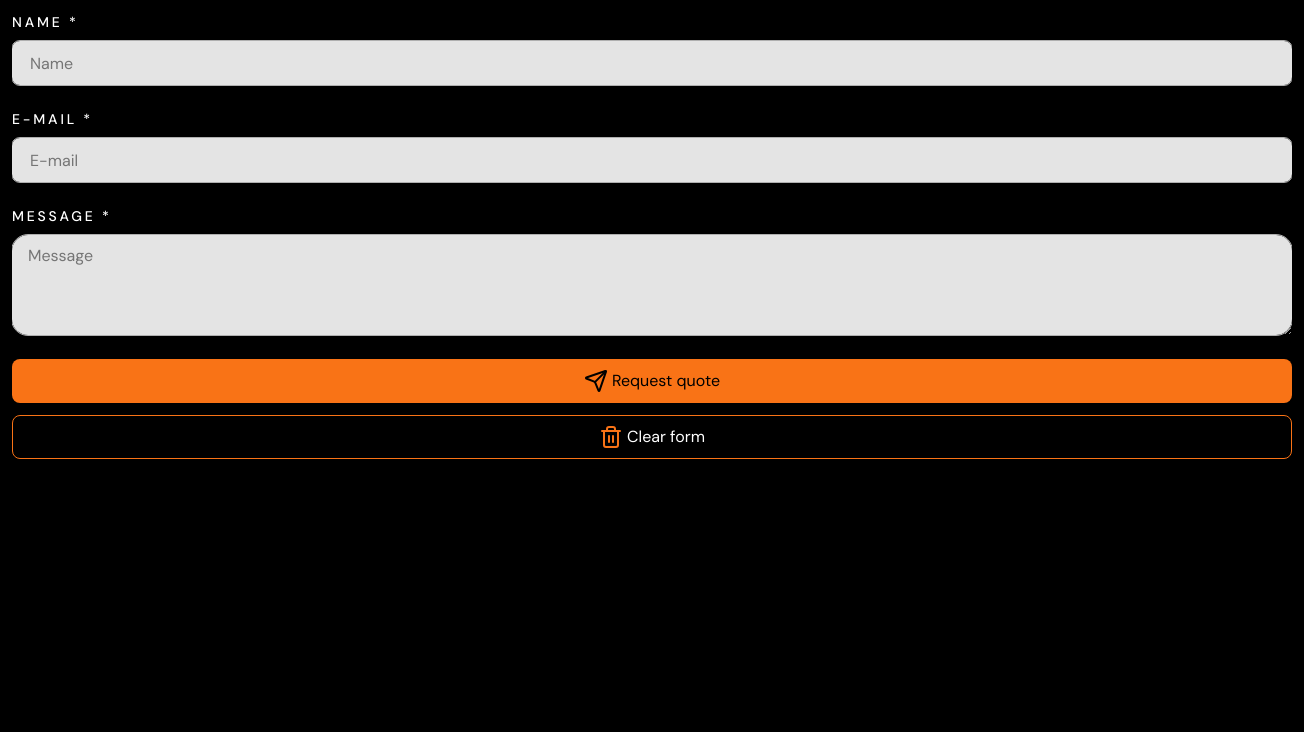
Test: Form › shows an invalid email error for a badly formatted email
Type "Kalle Anka" into the field labelled "Name *" at (124, 63), box [28, 41, 220, 85]
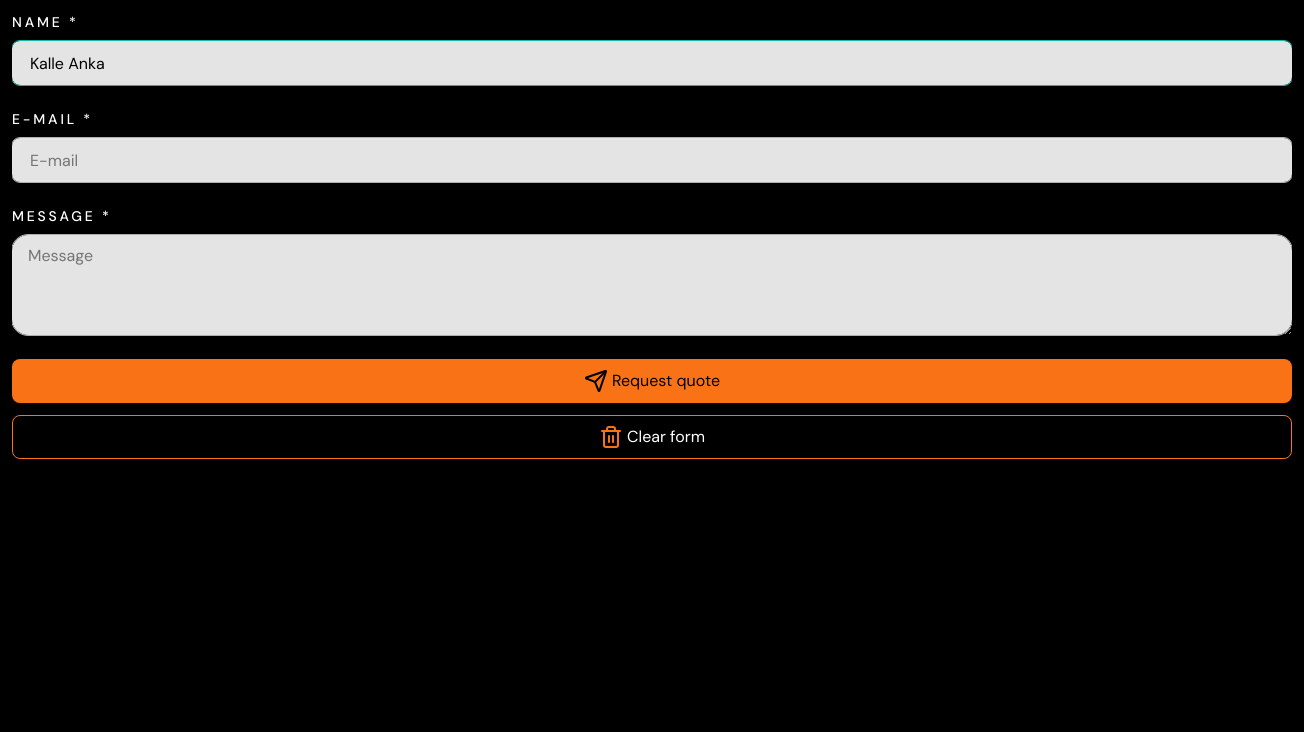
Type "kalle-snurre-se" into the field labelled "E-mail *" at (124, 160), box [28, 138, 220, 182]
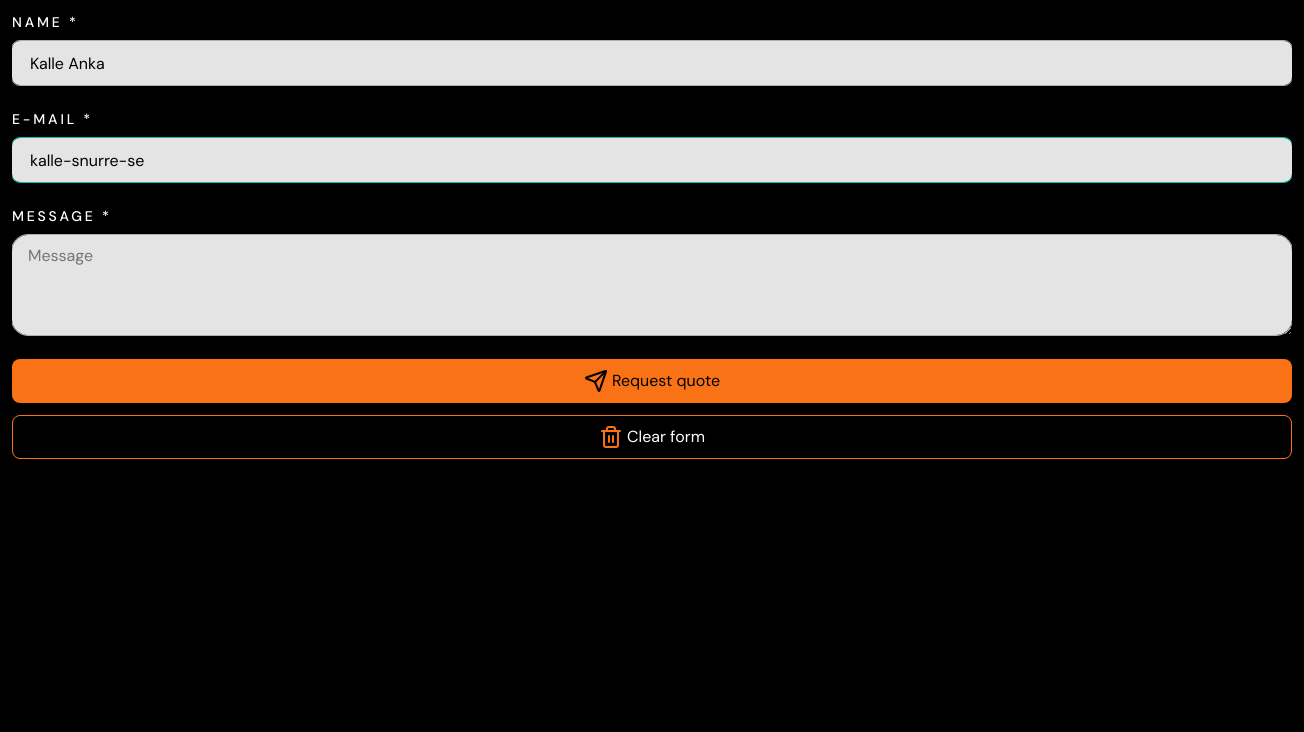
Type "Hej, jag vill ha en offert." into the text box labelled "Message *" at (652, 285), box [12, 235, 1292, 335]
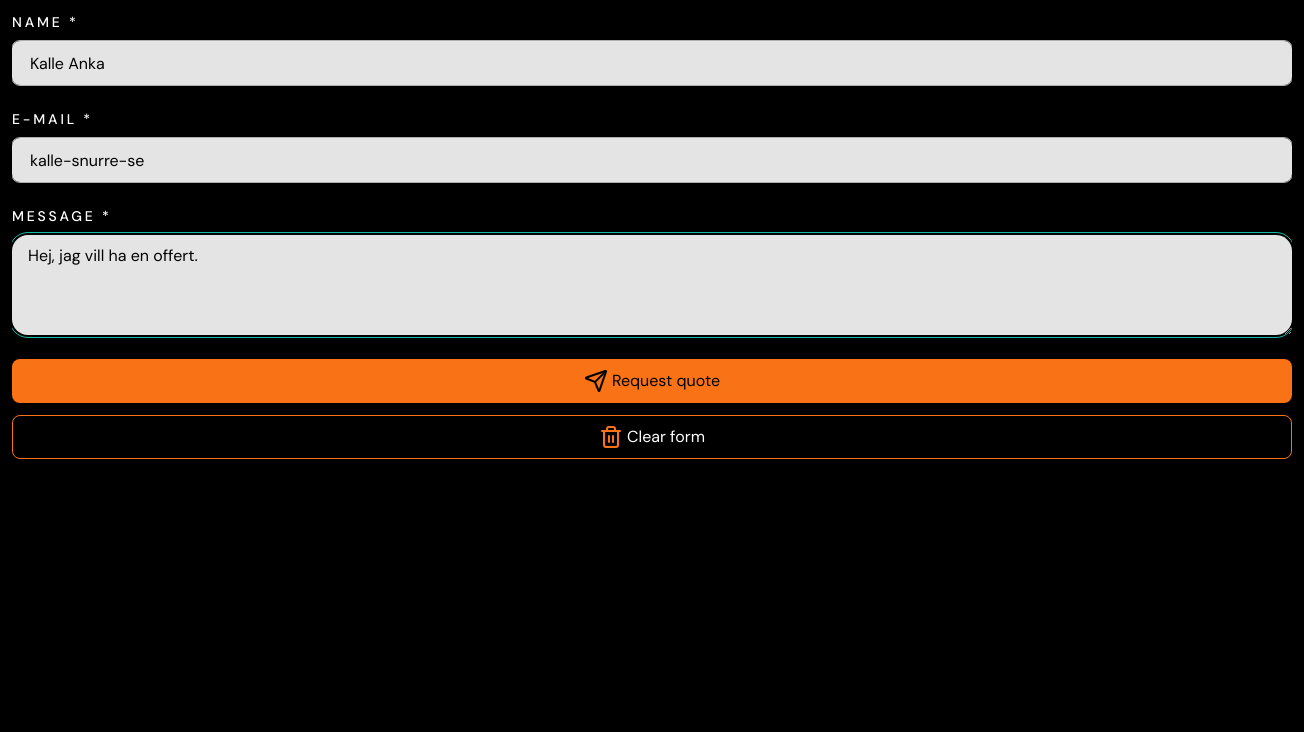
Click the button "Request quote" at (652, 381), box [12, 359, 1292, 403]
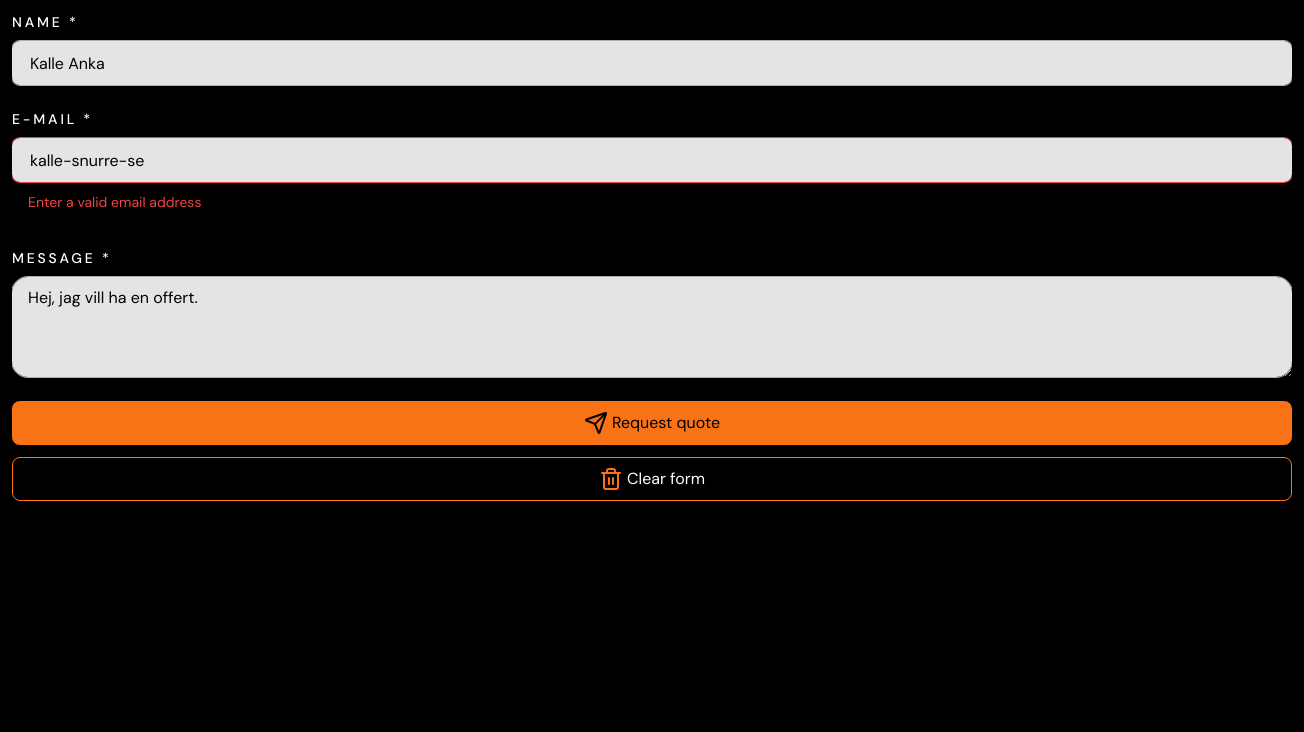
Now the text "Enter a valid email address" is shown, box [28, 193, 201, 211]
